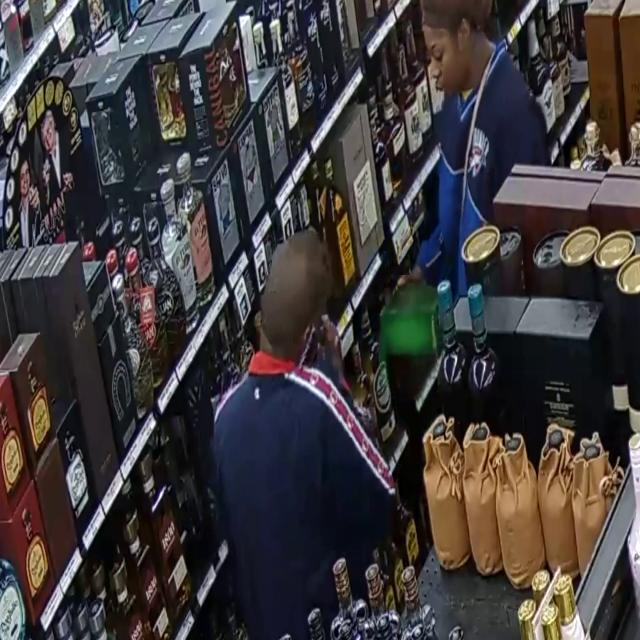Product: (382, 273, 437, 368)
normal: (199, 220, 399, 640)
shoplifting: (380, 0, 538, 477)
